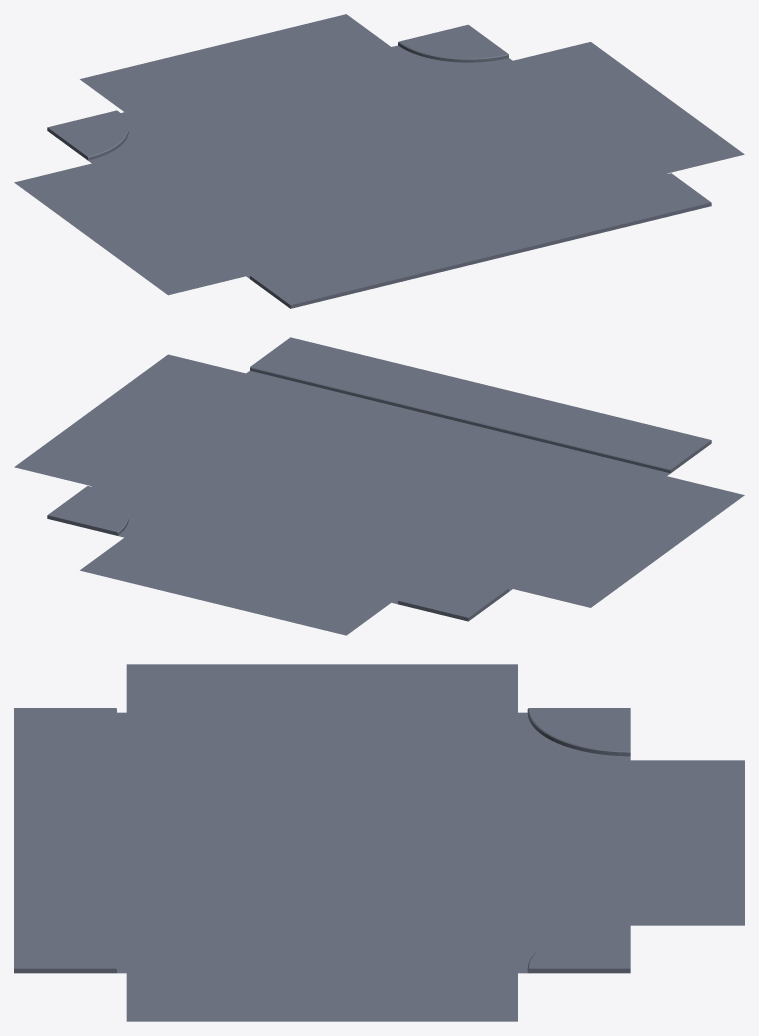
File: env_block_street_t_intersection.glb
3 renders of one model, top to bottom at view 1: azimuth 30°, elevation 25°; view 2: azimuth 150°, elevation 25°; view 3: azimuth 270°, elevation 25°, orthographic. The views are drawn at different scales.
Visible parts, largest first — view 1: Street_TIntersection.gltf; view 2: Street_TIntersection.gltf; view 3: Street_TIntersection.gltf.
Part boxes in pixels (<box>): Street_TIntersection.gltf: <box>14,14,744,308</box>; Street_TIntersection.gltf: <box>14,337,744,635</box>; Street_TIntersection.gltf: <box>14,664,744,1021</box>.
Size of the model in its own units: 24.67 by 0.15 by 21.33.
